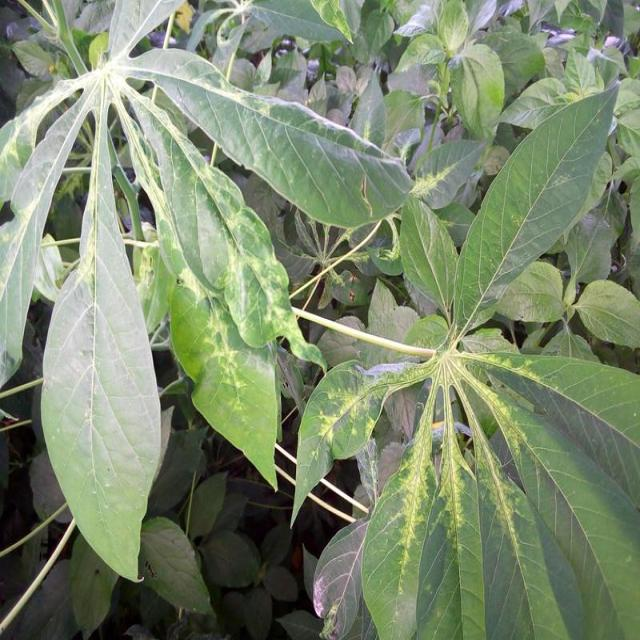cassava leaf: (0, 1, 638, 637), (39, 83, 162, 584), (451, 75, 620, 337)
